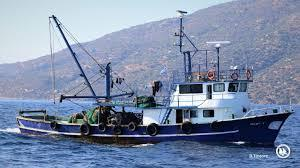Ship: (17, 52, 294, 147)
